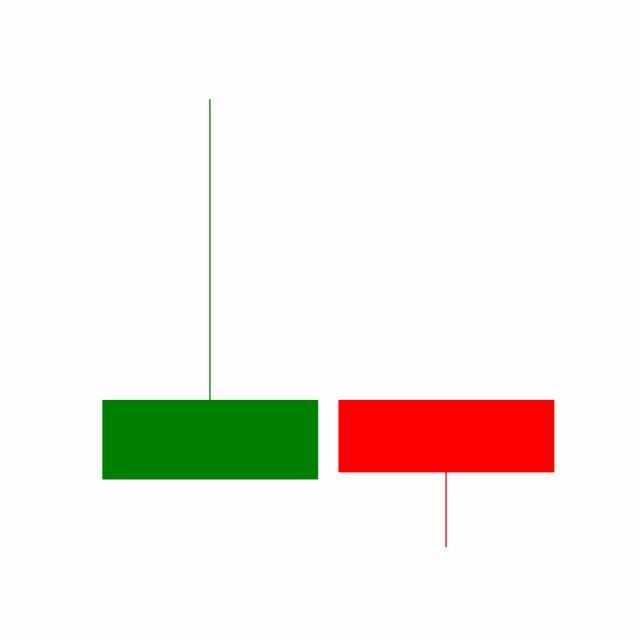Hammer: (328, 398, 566, 549)
